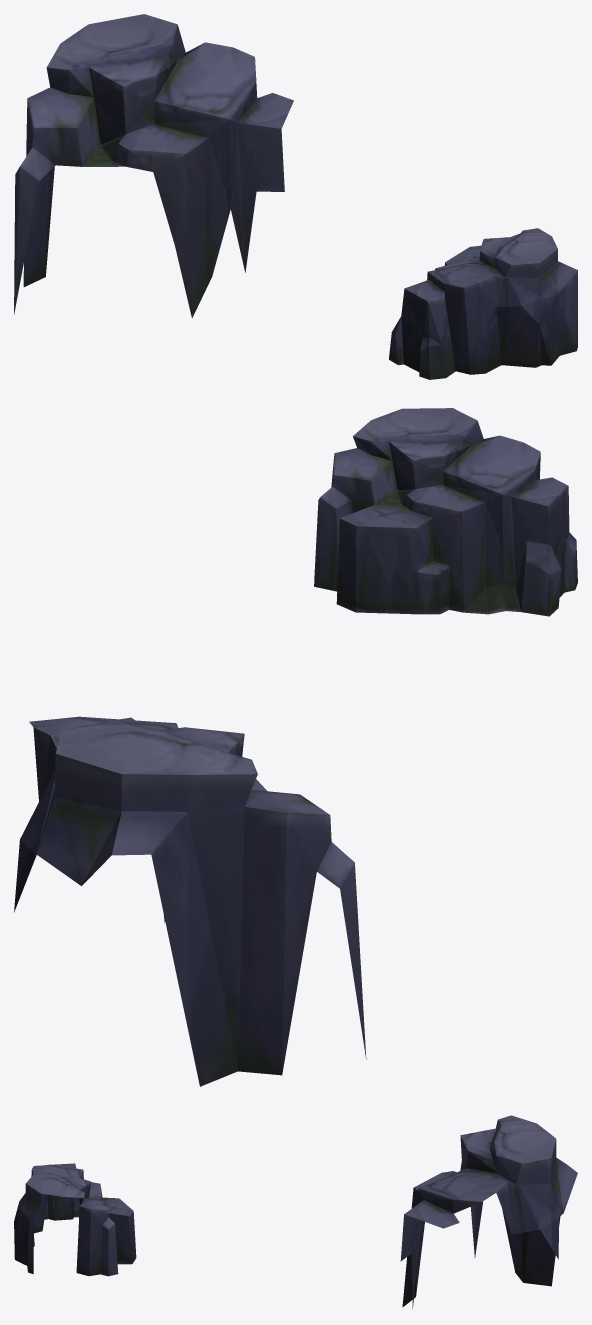
The model's file is Area01_3.fbx.
The picture shows the model from 3 angles, top to bottom: view 1: azimuth 30°, elevation 25°; view 2: azimuth 150°, elevation 25°; view 3: azimuth 270°, elevation 25°; orthographic projection. The views are drawn at different scales.
Visible parts, largest first — view 1: Area01_3; view 2: Area01_3; view 3: Area01_3.
Boxes of the visible parts, x1,y1,x2,y2 form: Area01_3: (14,14,577,379); Area01_3: (14,408,577,1086); Area01_3: (14,1115,577,1308).
Bounding box in the file's own units: 1695 × 1280 × 3893.
